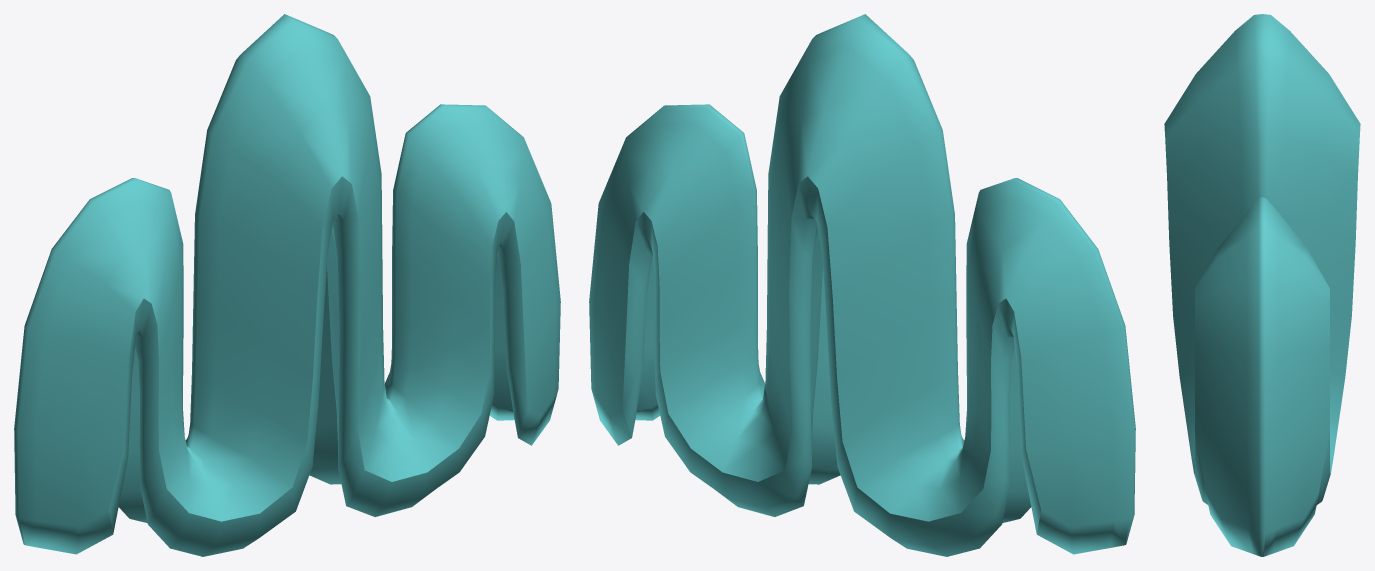
File: q_bush_leafy.fbx
3 views of the same model, side by side, from view 1: azimuth 30°, elevation 25°; view 2: azimuth 150°, elevation 25°; view 3: azimuth 270°, elevation 25° (orthographic). The views are drawn at different scales.
Visible parts, largest first — view 1: q_bush_leafy; view 2: q_bush_leafy; view 3: q_bush_leafy.
Boxes of the visible parts, x1,y1,x2,y2 form: q_bush_leafy: (14,14,560,556); q_bush_leafy: (589,14,1135,556); q_bush_leafy: (1164,14,1360,556).
Bounding box in the file's own units: 1.14 × 1 × 0.3884.
1 material, 1 textured.
